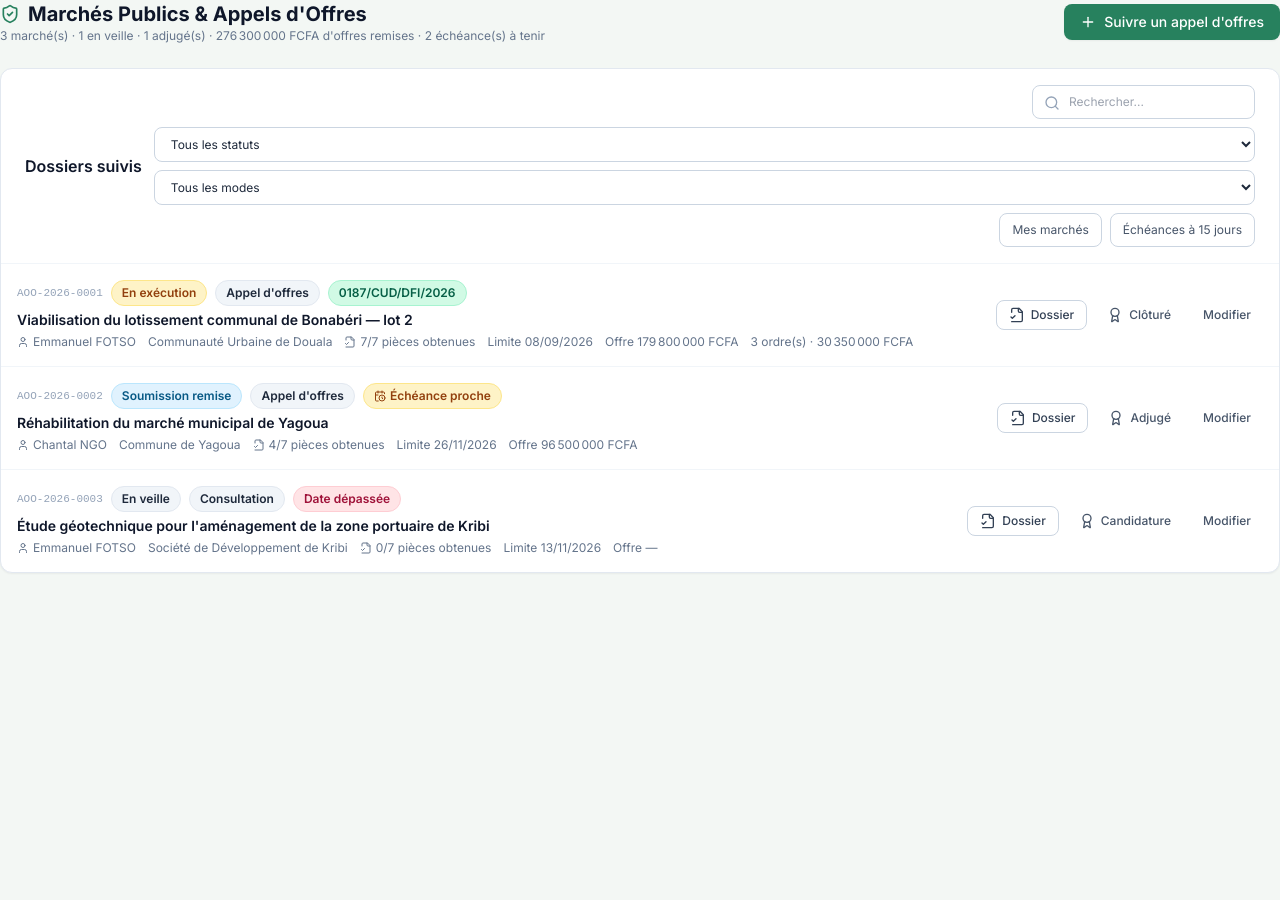
Scenario: TendersPage en mode démo › refuse la création quand la date limite précède la publication de l’avis
The width and height of the screenshot is (1280, 900).
Click the button "Suivre un appel d'offres" at (1172, 22), box x1=1064 y1=4 x2=1279 y2=40
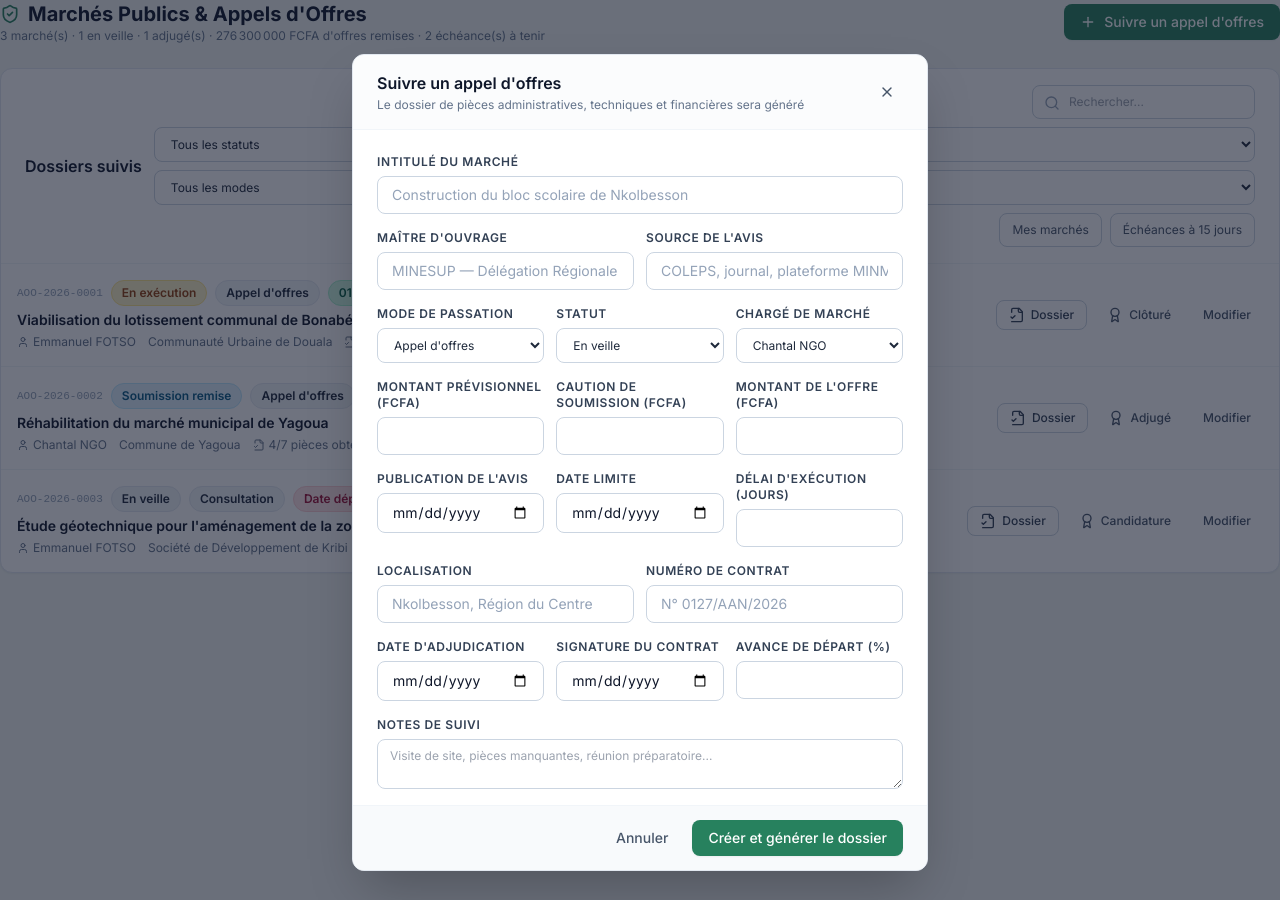
Type "Marché incohérent" into the field with placeholder "Construction du bloc scolaire de Nkolbesson" at (640, 194), box x1=377 y1=176 x2=903 y2=214
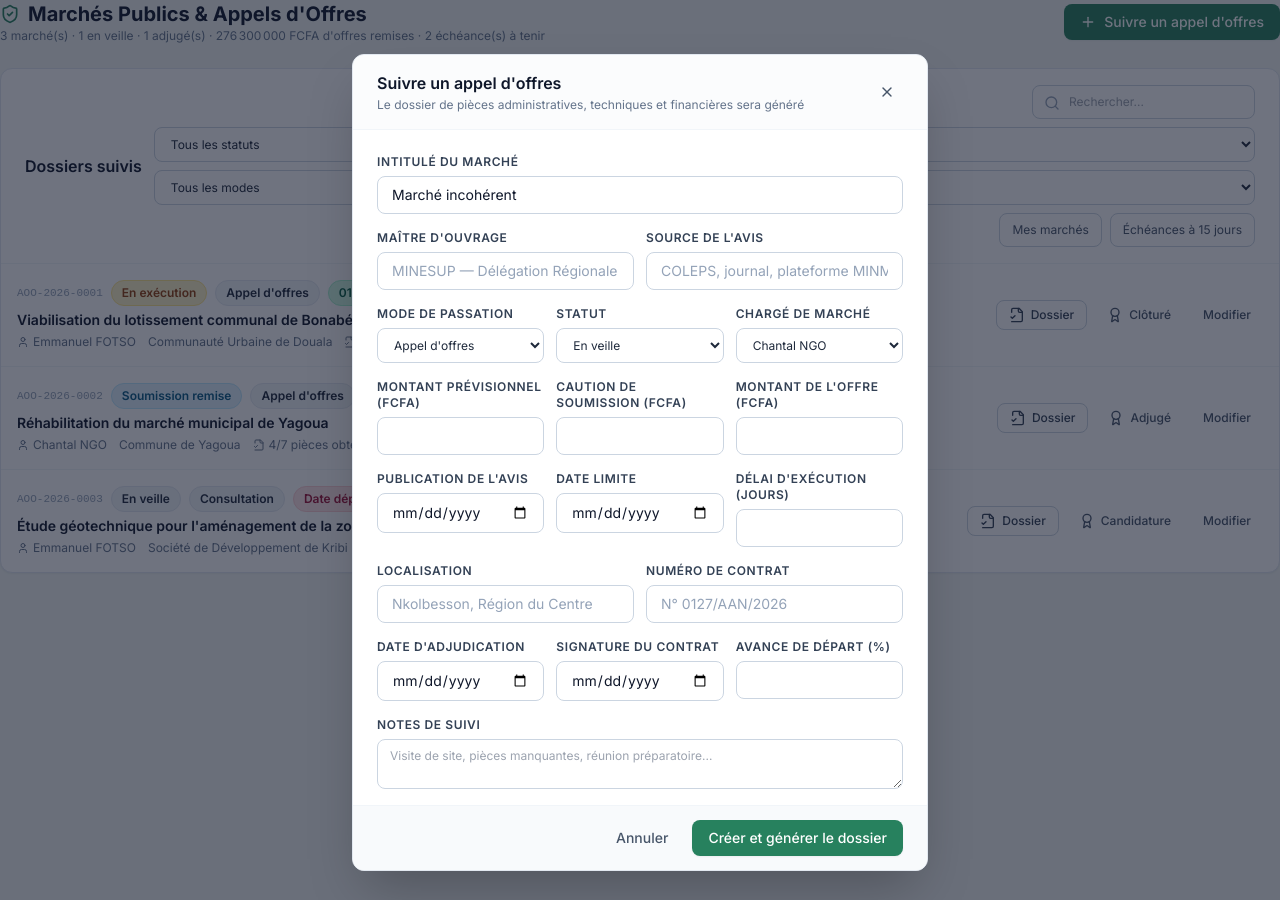
Type "2026-12-20" into the date field labelled "Publication de l'avis" at (461, 512), box x1=377 y1=492 x2=544 y2=532
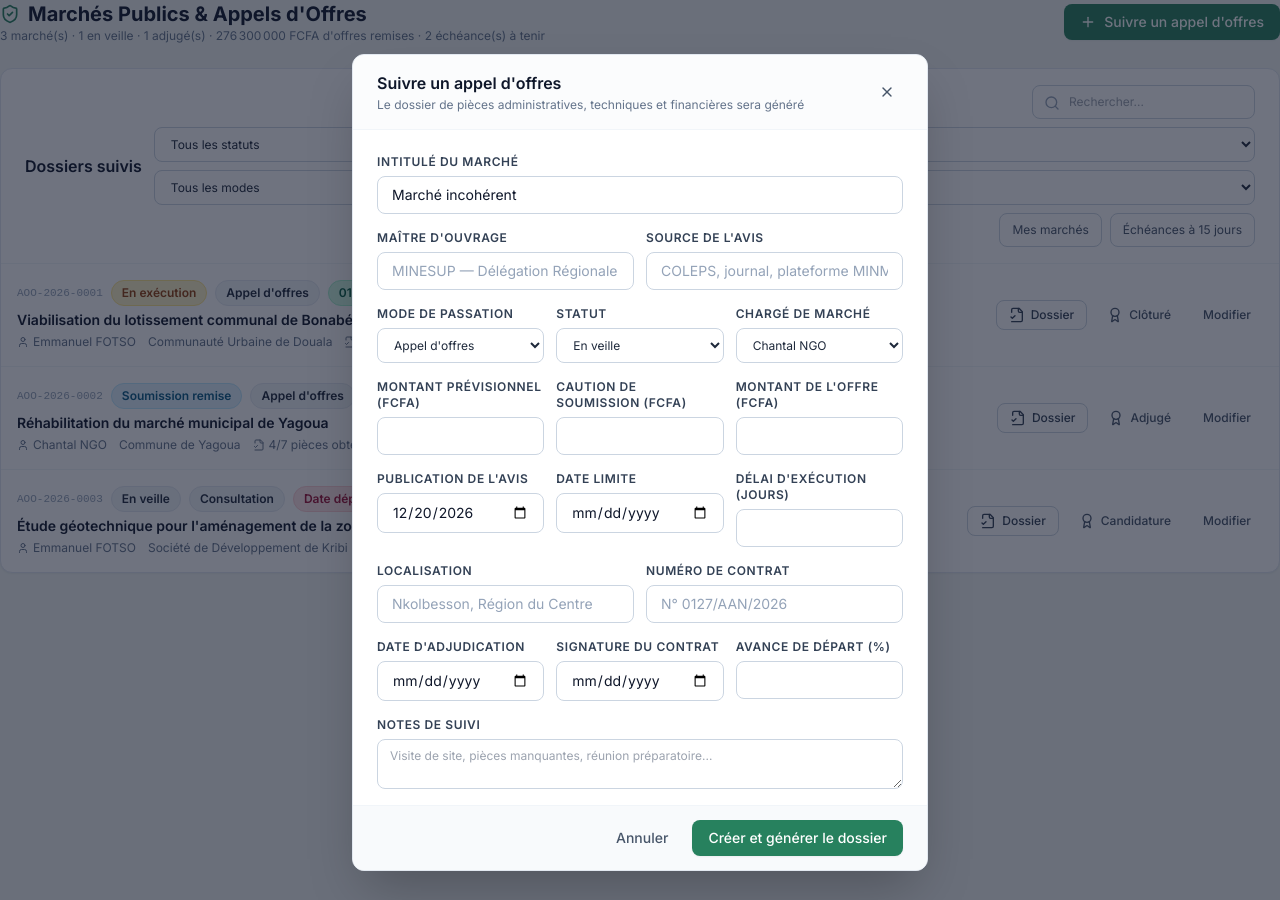
Type "2026-12-10" into the date field labelled "Date limite" at (640, 512), box x1=556 y1=492 x2=724 y2=532
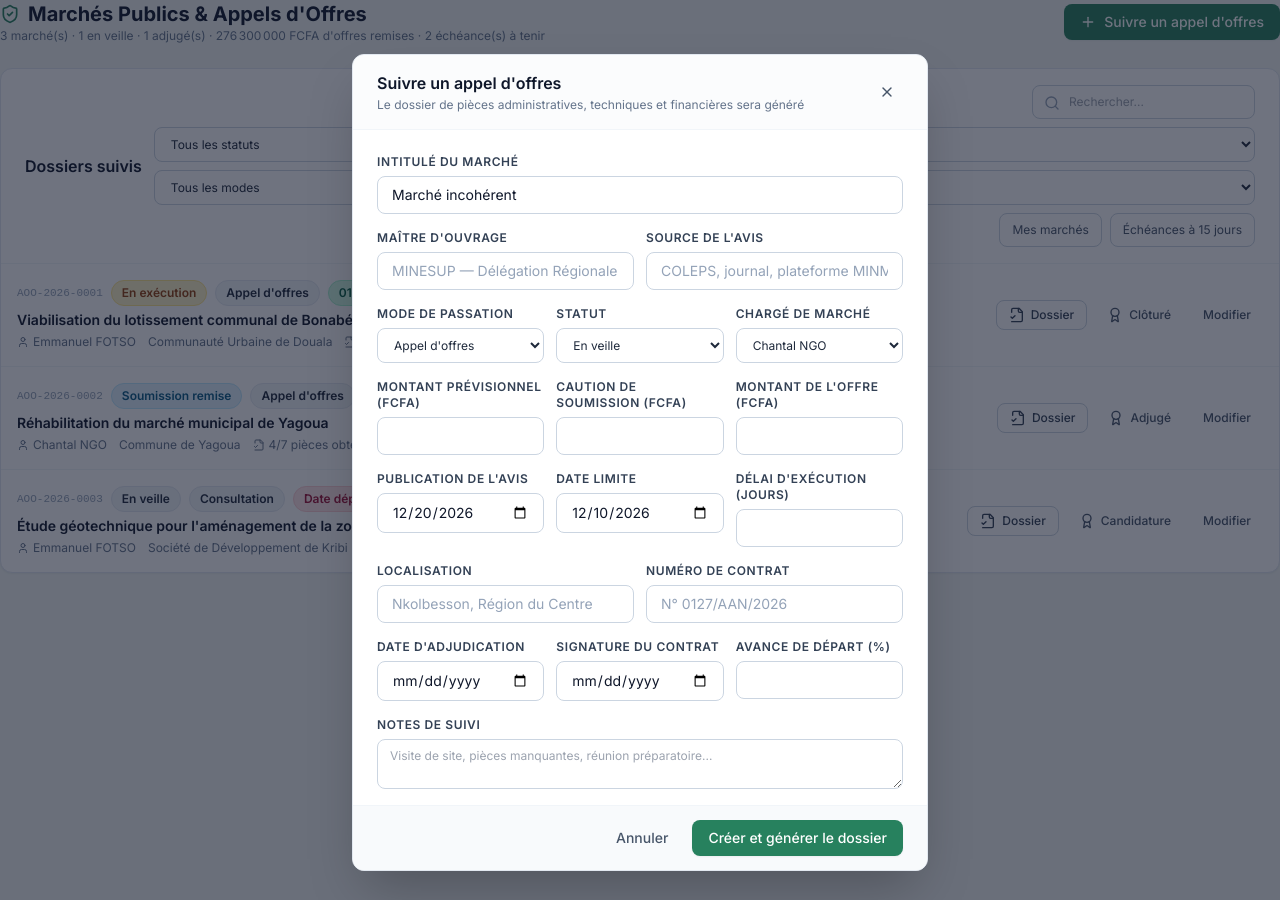
Click the button "Créer et générer le dossier" at (798, 838), box x1=692 y1=820 x2=903 y2=856
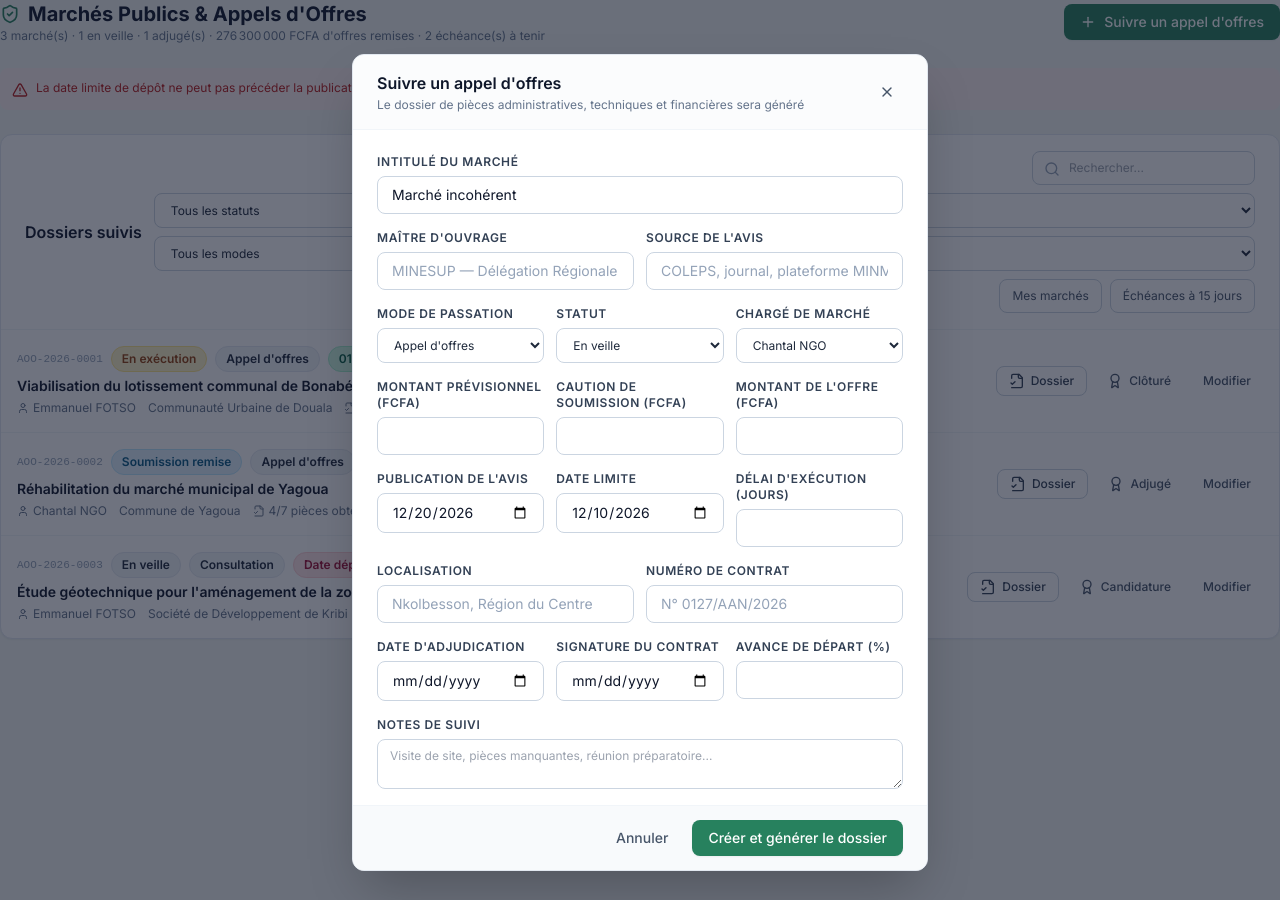
Check: the message shows "ne peut pas précéder la publication", box x1=36 y1=80 x2=421 y2=95
